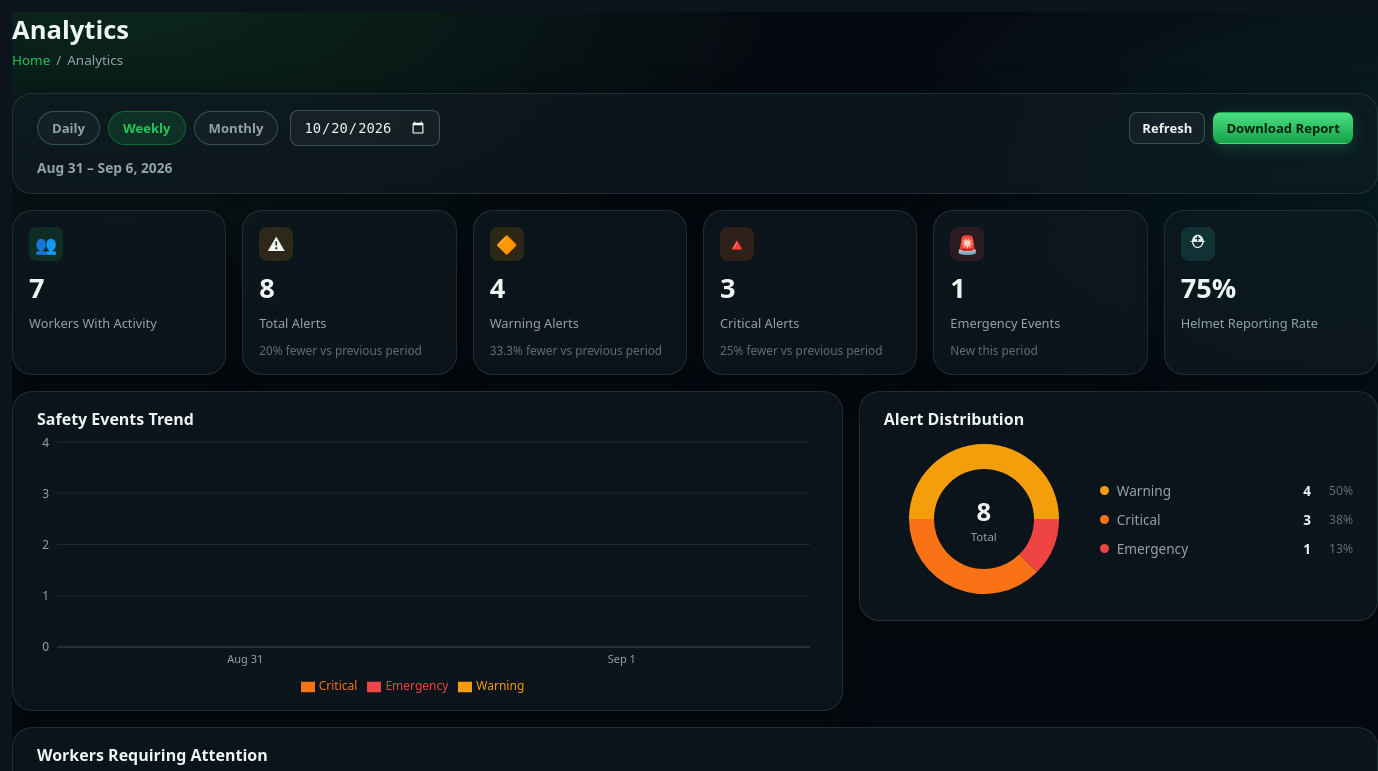
Test: AnalyticsPage › Download Report shows an error toast on failure and re-enables the button
The width and height of the screenshot is (1378, 771).
Expected: the text "Workers With Activity" is shown, top-left (29, 314), bottom-right (157, 332)
Step 1. Click the button "Download Report" → (1283, 128), box top-left (1213, 112), bottom-right (1353, 144)
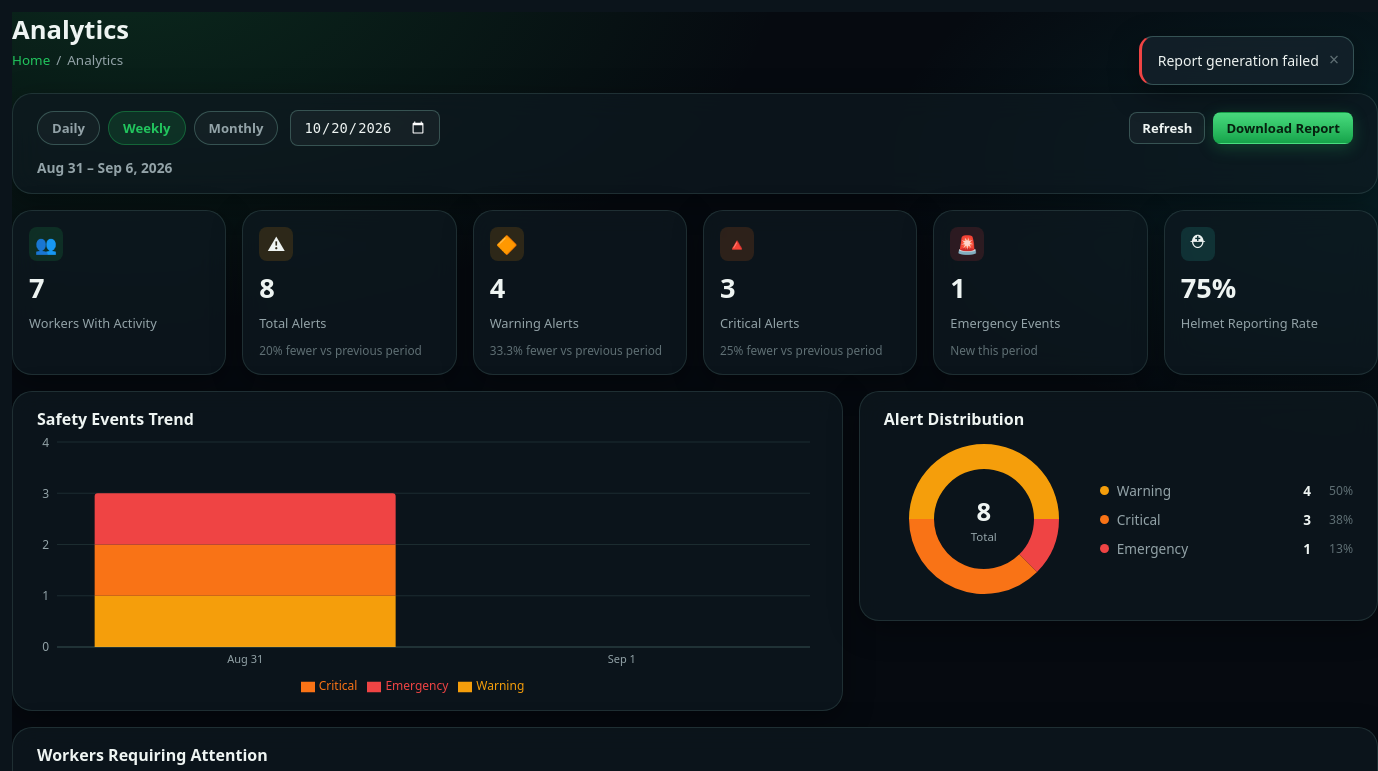
Expected: the text "Report generation failed" is shown, top-left (1158, 51), bottom-right (1319, 70)
